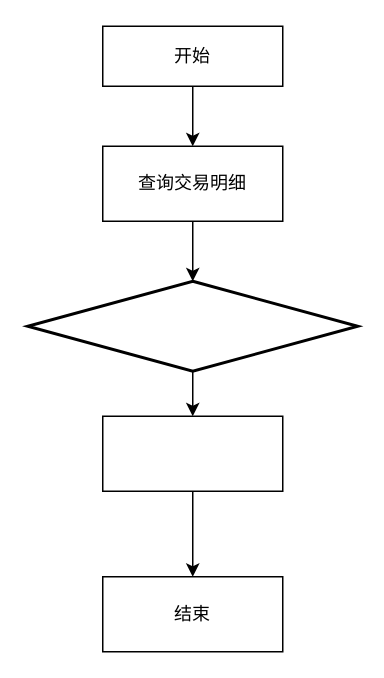
This 384x678 diagram has some shape labels left out. Each missing label, with the centre of its shape:
"后台获取交易明细" goes at (x=192, y=325).
"返回结果" goes at (x=192, y=453).
